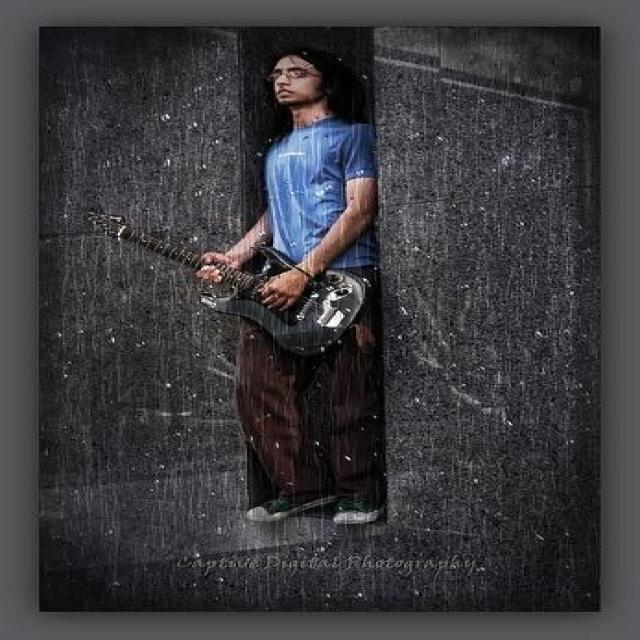guitar: (77, 204, 362, 359)
